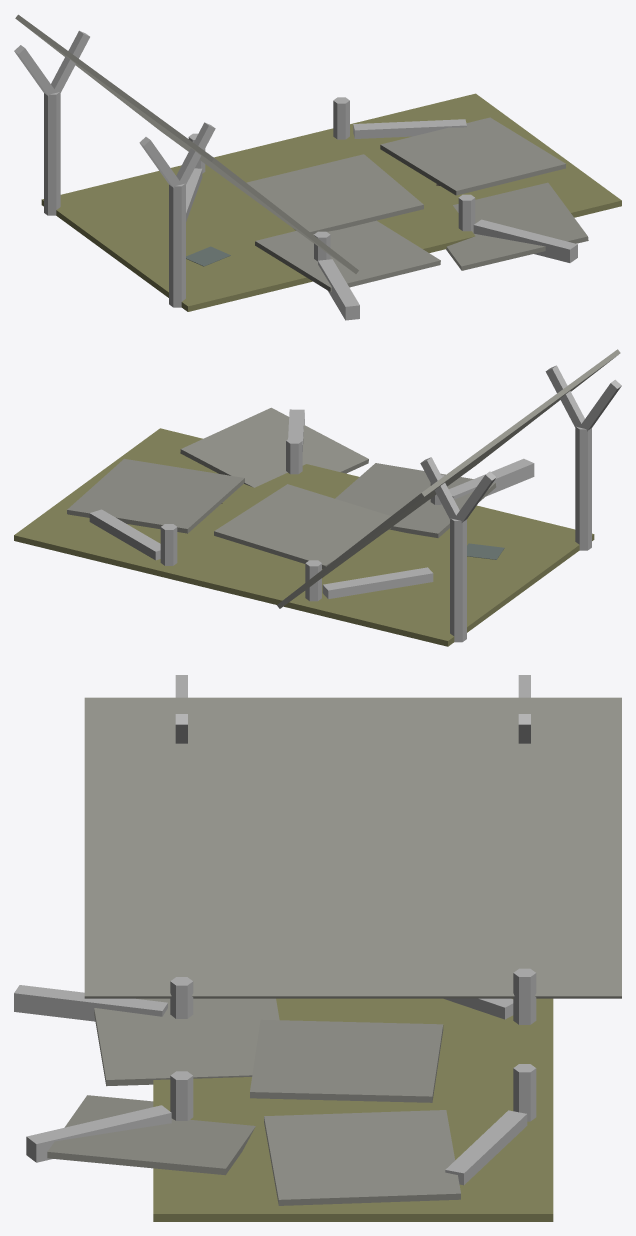
The model's file is SM_MarquesinaBus_v3_Lonas_e2_MuyDanado_LOD1.fbx.
3 views of the same model, one above another, from view 1: azimuth 30°, elevation 25°; view 2: azimuth 150°, elevation 25°; view 3: azimuth 270°, elevation 25° (orthographic). The views are drawn at different scales.
Visible parts, largest first — view 1: SM_marquesina_bus_v14_LOD1; view 2: SM_marquesina_bus_v14_LOD1; view 3: SM_marquesina_bus_v14_LOD1.
Boxes of the visible parts, bbox=[...] form: SM_marquesina_bus_v14_LOD1: bbox=[14, 14, 621, 320]; SM_marquesina_bus_v14_LOD1: bbox=[14, 349, 621, 646]; SM_marquesina_bus_v14_LOD1: bbox=[14, 675, 621, 1221].
Size of the model in its own units: 12.99 by 4.63 by 10.63.
